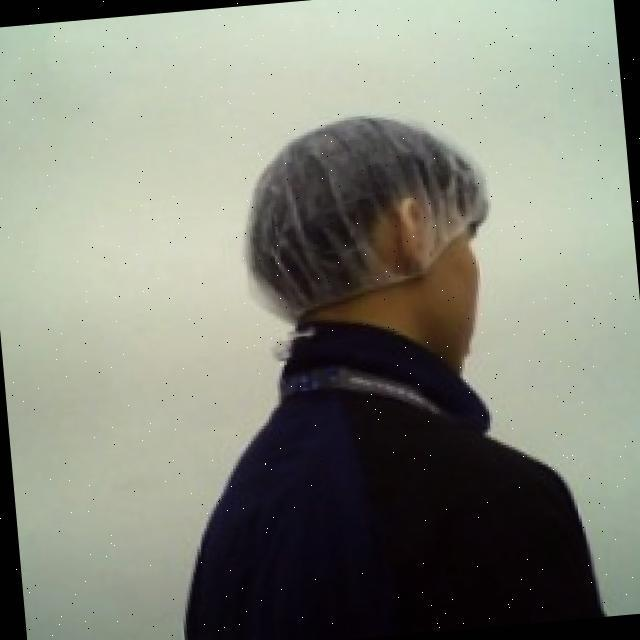gloves: (230, 100, 509, 343)
